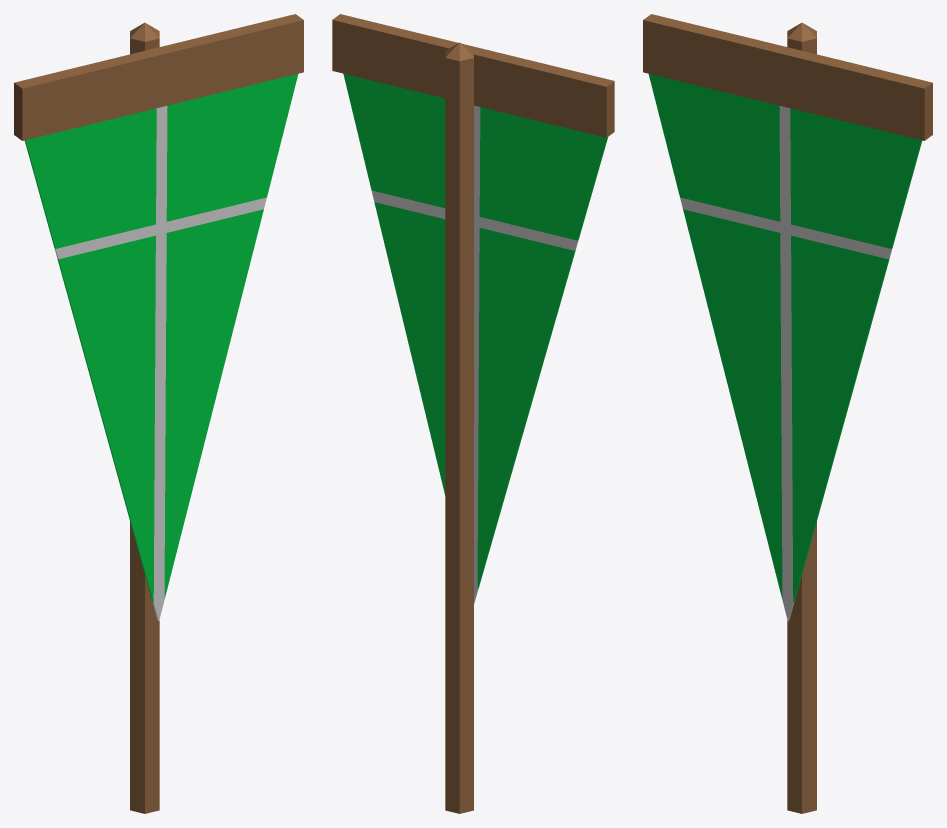
File: Player_flag_green_2_mat.fbx
3 renders of one model, left to right at view 1: azimuth 30°, elevation 25°; view 2: azimuth 150°, elevation 25°; view 3: azimuth 330°, elevation 25°, orthographic. The views are drawn at different scales.
Parts seen in each view (by area): view 1: Player_flag_green_2_mat; view 2: Player_flag_green_2_mat; view 3: Player_flag_green_2_mat.
Part boxes in pixels (x1,y1,x2,y2): Player_flag_green_2_mat: (14,14,303,813); Player_flag_green_2_mat: (332,14,614,813); Player_flag_green_2_mat: (643,14,932,813).
Size of the model in its own units: 0.7631 by 2.03 by 0.1204.
